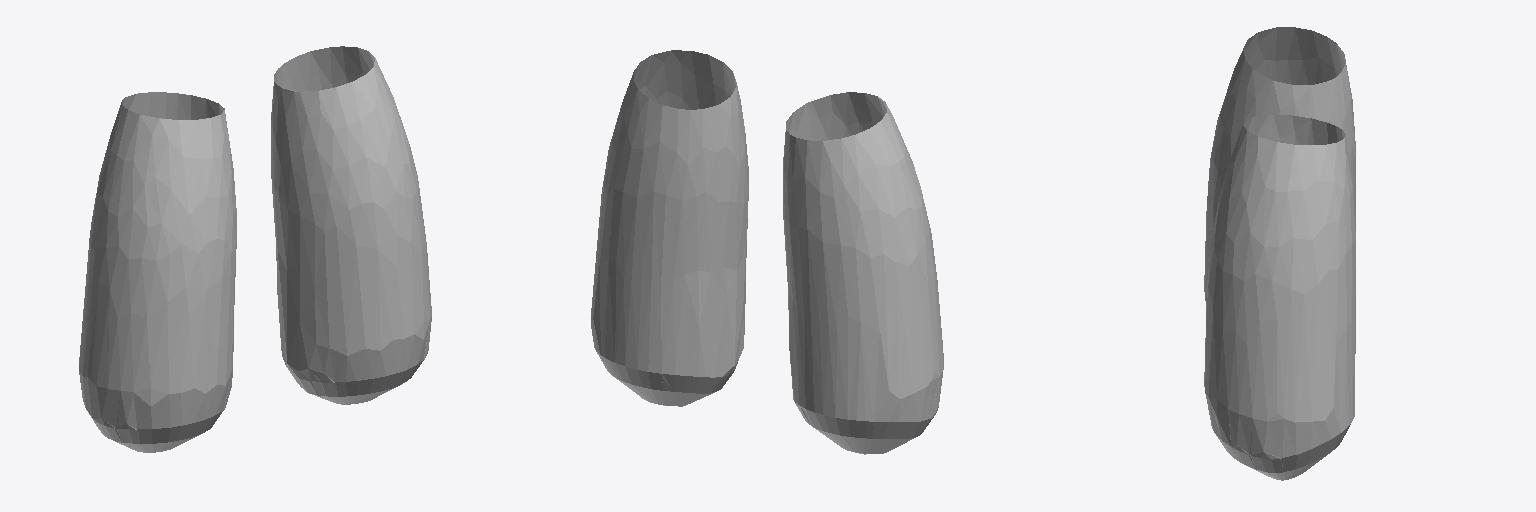
File: bootliner.obj
3 views of the same model, side by side, from view 1: azimuth 30°, elevation 25°; view 2: azimuth 150°, elevation 25°; view 3: azimuth 270°, elevation 25° (orthographic).
Visible parts, largest first — view 1: Bootliner; view 2: Bootliner; view 3: Bootliner.
Part boxes in pixels (x1,y1,x2,y2): Bootliner: (79, 46, 431, 452); Bootliner: (591, 50, 943, 454); Bootliner: (1204, 27, 1355, 480).
Bounding box in the file's own units: 43.25 × 42.63 × 17.08.